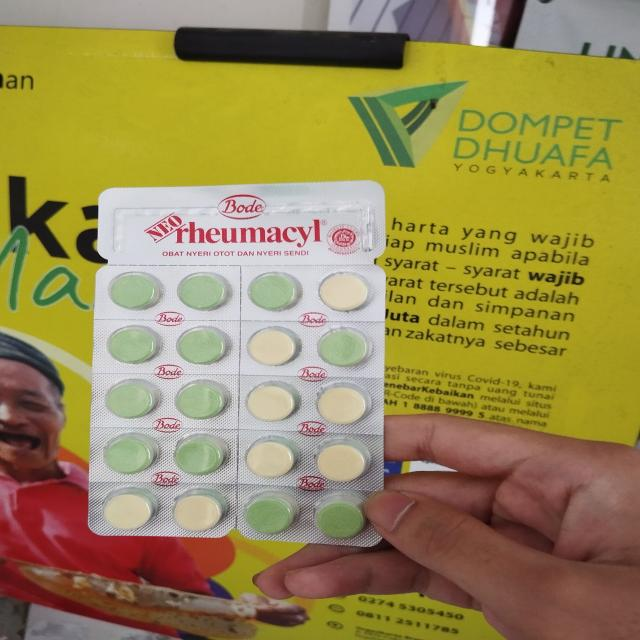B3: (87, 177, 388, 549)
